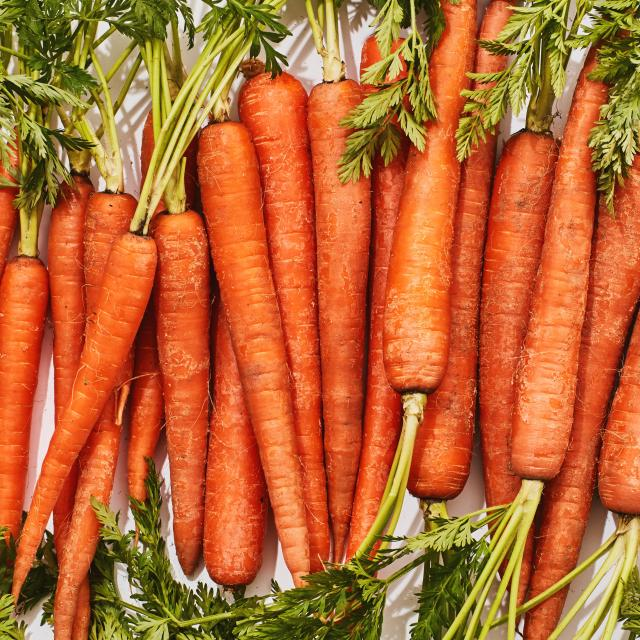Fresh_Carrot: (11, 0, 275, 605), (422, 0, 633, 640), (306, 0, 387, 569), (243, 76, 334, 582)
